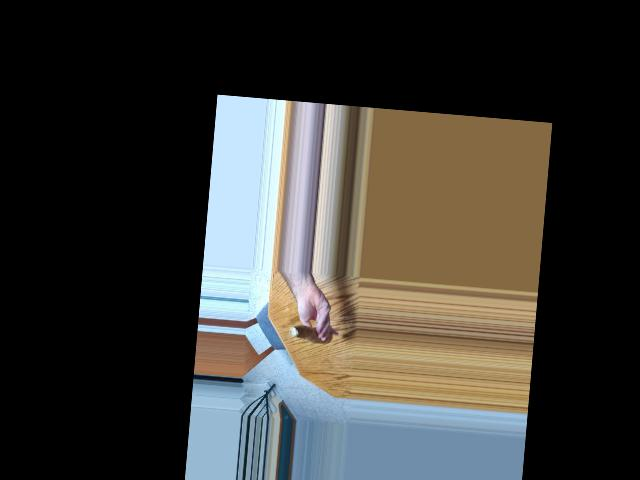sweet_potato: (289, 319, 328, 346)
